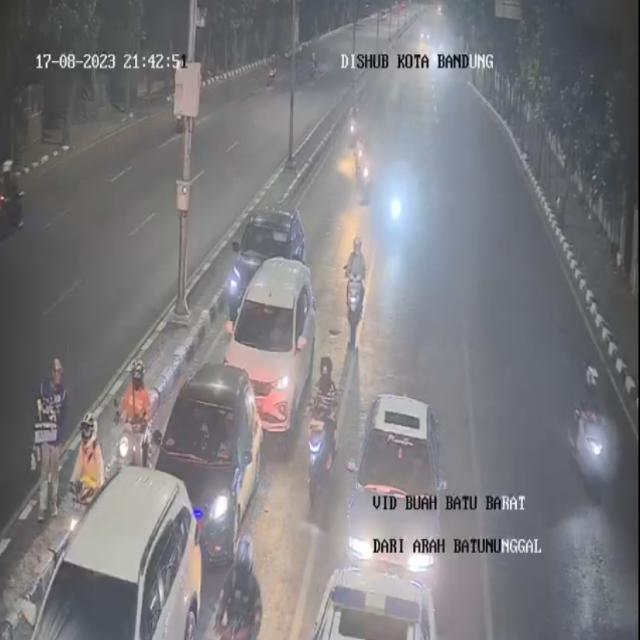cars: (25, 469, 190, 640), (352, 387, 453, 620), (157, 360, 266, 562), (225, 258, 315, 432), (297, 562, 440, 638), (237, 202, 306, 290)
motorcycle: (310, 349, 346, 504), (572, 359, 614, 484), (218, 536, 266, 639), (69, 416, 106, 524), (382, 153, 414, 261), (126, 362, 156, 465), (343, 235, 371, 343), (349, 103, 366, 153), (354, 115, 364, 186), (360, 148, 371, 205)
